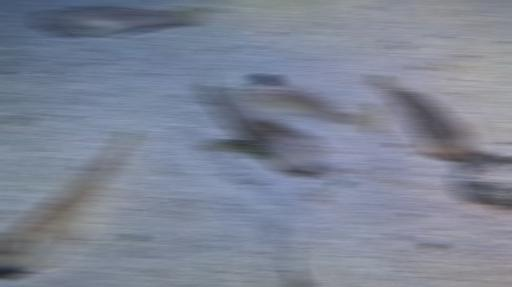Fish: (0, 128, 135, 271), (202, 75, 323, 172), (371, 75, 474, 160), (227, 78, 384, 132), (35, 7, 202, 37), (285, 256, 304, 286), (252, 74, 279, 84)
